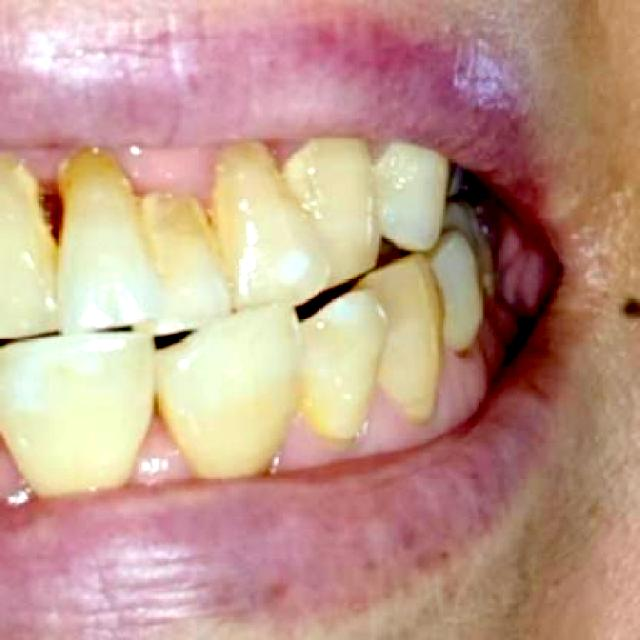Plaque: (103, 144, 250, 224), (15, 146, 99, 203)
